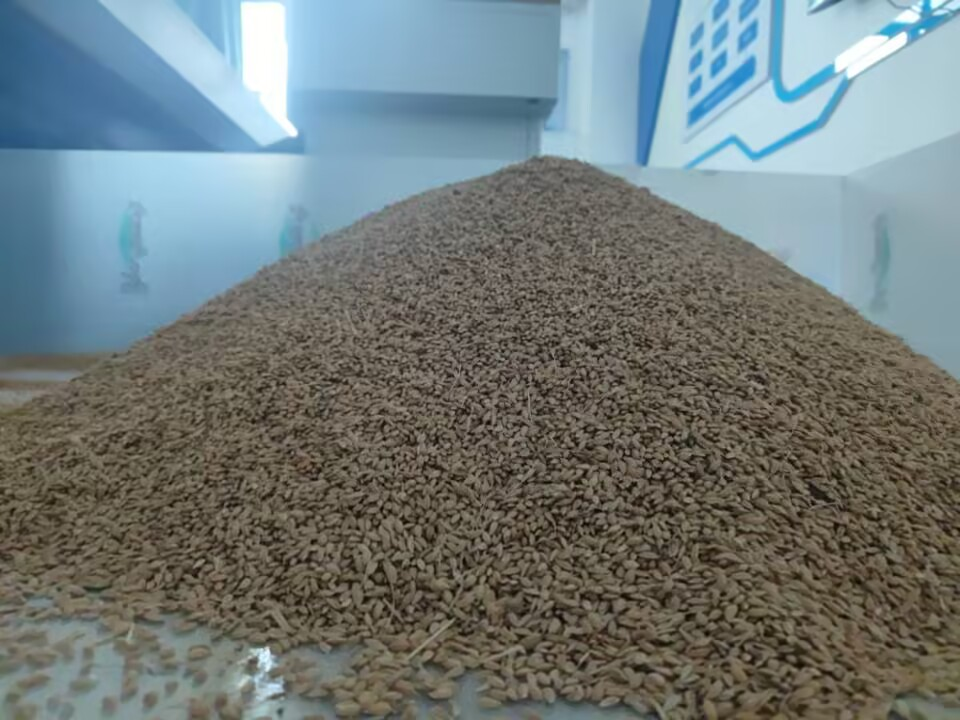Grain: (179, 145, 960, 647)
